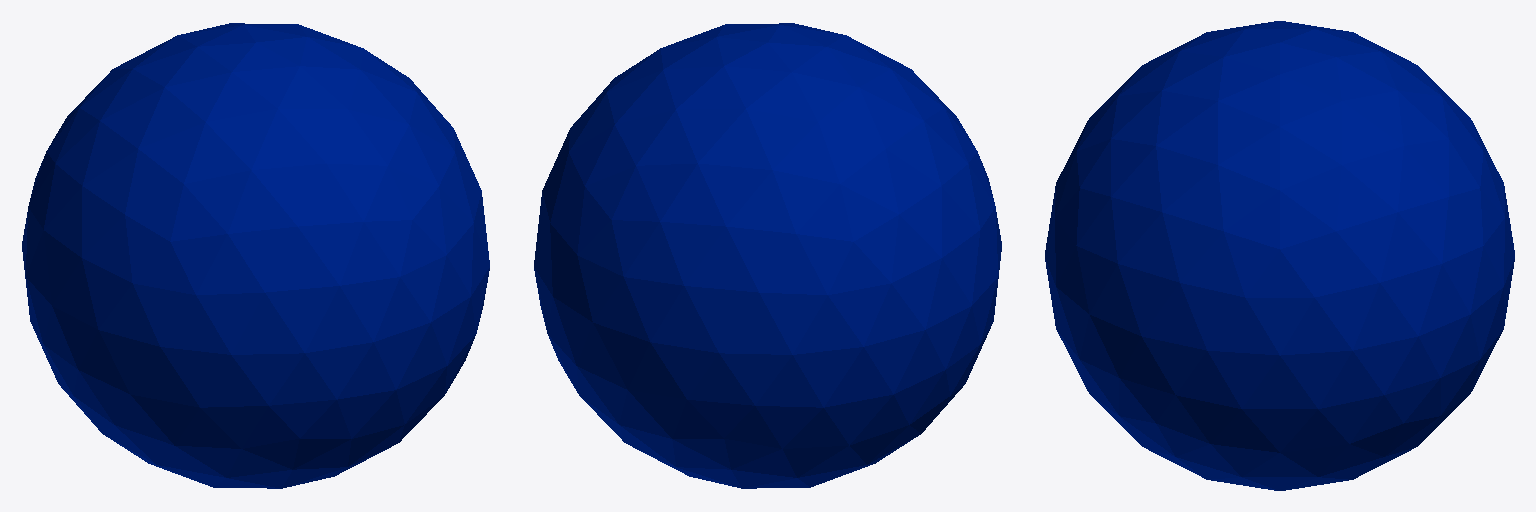
File: Uranus.obj
3 renders of one model, left to right at view 1: azimuth 30°, elevation 25°; view 2: azimuth 150°, elevation 25°; view 3: azimuth 270°, elevation 25°, orthographic.
Visible parts, largest first — view 1: Icosphere_Icosphere.001; view 2: Icosphere_Icosphere.001; view 3: Icosphere_Icosphere.001.
Boxes of the visible parts, box(x1,y1,x2,y2) form: Icosphere_Icosphere.001: box(22, 23, 489, 488); Icosphere_Icosphere.001: box(534, 23, 1001, 488); Icosphere_Icosphere.001: box(1045, 21, 1514, 490).
Size of the model in its own units: 2 by 2 by 2.